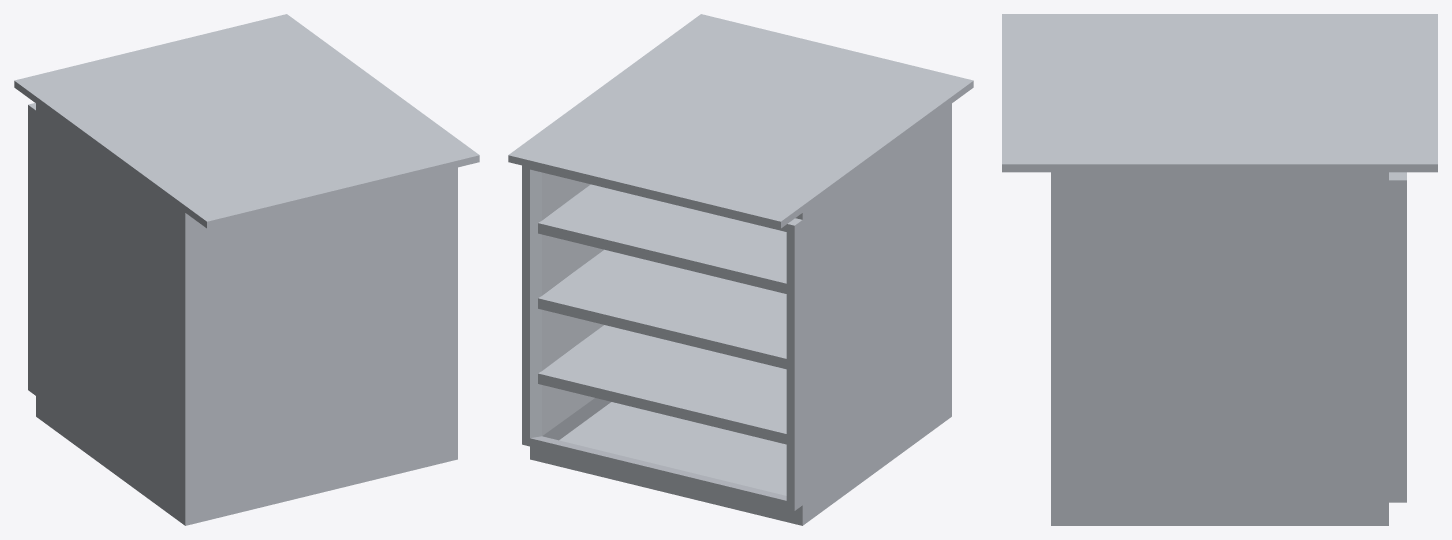
The model's file is counter_counter_4_shelves.glb.
3 renders of one model, left to right at view 1: azimuth 30°, elevation 25°; view 2: azimuth 150°, elevation 25°; view 3: azimuth 270°, elevation 25°, orthographic. The views are drawn at different scales.
Visible parts, largest first — view 1: counter_counter_4_shelves.001; view 2: counter_counter_4_shelves.001; view 3: counter_counter_4_shelves.001.
Part boxes in pixels (<box>): counter_counter_4_shelves.001: <box>14,14,479,525</box>; counter_counter_4_shelves.001: <box>508,14,973,525</box>; counter_counter_4_shelves.001: <box>1002,14,1437,525</box>.
Bounding box in the file's own units: 62.02 × 69.57 × 75.99.
1 material, 1 textured.
